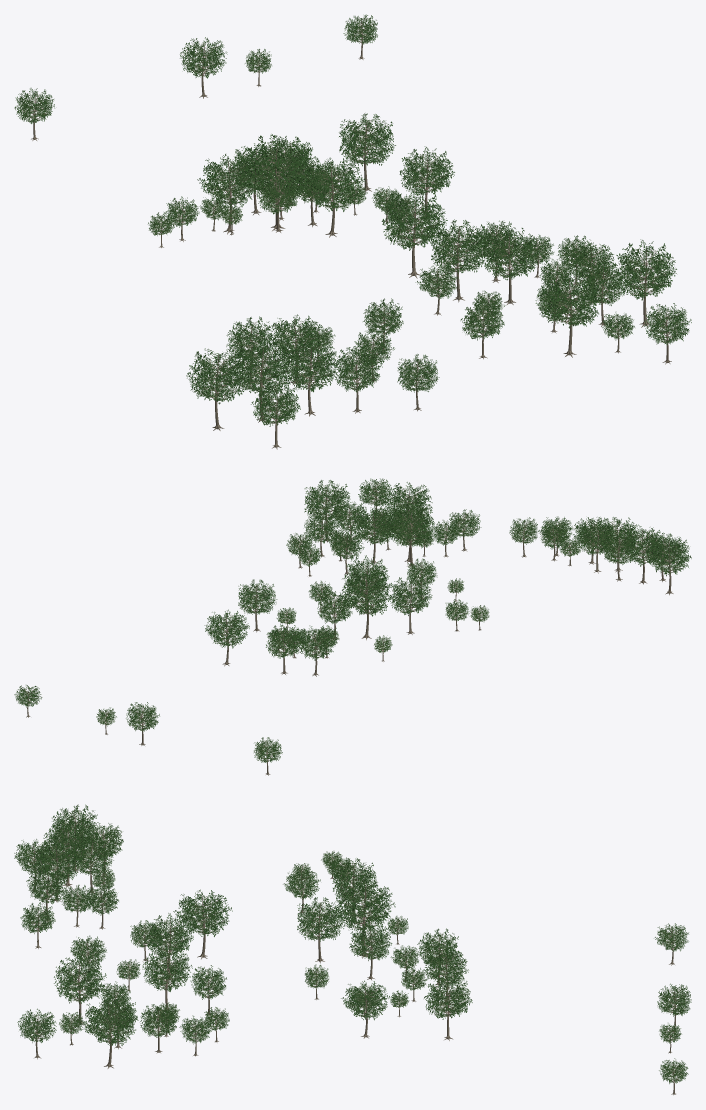
The model's file is expansion-trees-east.glb.
The picture shows the model from 3 angles, top to bottom: view 1: azimuth 30°, elevation 25°; view 2: azimuth 150°, elevation 25°; view 3: azimuth 270°, elevation 25°; orthographic projection. The views are drawn at different scales.
Parts seen in each view (by area): view 1: Expansion_GardenTree_035, Expansion_GardenTree_054, Expansion_GardenTree_050, Expansion_GardenTree_052, Expansion_GardenTree_069, Expansion_GardenTree_041, Expansion_GardenTree_048, Expansion_GardenTree_065, Expansion_GardenTree_045, Expansion_GardenTree_057, Expansion_GardenTree_083, Expansion_GardenTree_073 (+23 smaller); view 2: Expansion_GardenTree_035, Expansion_GardenTree_054, Expansion_GardenTree_052, Expansion_GardenTree_069, Expansion_GardenTree_083, Expansion_GardenTree_045, Expansion_GardenTree_057, Expansion_GardenTree_043, Expansion_GardenTree_065, Expansion_GardenTree_050, Expansion_GardenTree_036, Expansion_GardenTree_039 (+19 smaller); view 3: Expansion_GardenTree_035, Expansion_GardenTree_054, Expansion_GardenTree_052, Expansion_GardenTree_050, Expansion_GardenTree_041, Expansion_GardenTree_057, Expansion_GardenTree_045, Expansion_GardenTree_048, Expansion_GardenTree_073, Expansion_GardenTree_043, Expansion_GardenTree_083, Expansion_GardenTree_070 (+27 smaller).
Part boxes in pixels (x1,y1,x2,y2): Expansion_GardenTree_035: (243, 134, 313, 231); Expansion_GardenTree_054: (381, 189, 447, 278); Expansion_GardenTree_050: (537, 272, 599, 357); Expansion_GardenTree_052: (614, 239, 676, 327); Expansion_GardenTree_069: (186, 348, 250, 430); Expansion_GardenTree_041: (298, 157, 365, 237); Expansion_GardenTree_048: (431, 219, 489, 302); Expansion_GardenTree_065: (231, 342, 296, 422); Expansion_GardenTree_045: (339, 113, 395, 192); Expansion_GardenTree_057: (482, 227, 541, 305); Expansion_GardenTree_083: (197, 154, 261, 234); Expansion_GardenTree_073: (281, 339, 340, 416); Expansion_GardenTree_035: (338, 569, 393, 640); Expansion_GardenTree_054: (389, 504, 436, 566); Expansion_GardenTree_052: (304, 480, 351, 542); Expansion_GardenTree_069: (647, 534, 691, 595); Expansion_GardenTree_083: (389, 575, 432, 634); Expansion_GardenTree_045: (204, 609, 249, 666); Expansion_GardenTree_057: (351, 507, 392, 564); Expansion_GardenTree_043: (238, 579, 277, 632); Expansion_GardenTree_065: (622, 524, 664, 584); Expansion_GardenTree_050: (384, 482, 432, 541); Expansion_GardenTree_036: (296, 625, 335, 676); Expansion_GardenTree_039: (266, 624, 301, 674); Expansion_GardenTree_035: (335, 879, 395, 958); Expansion_GardenTree_054: (173, 889, 232, 959); Expansion_GardenTree_052: (79, 999, 138, 1068); Expansion_GardenTree_050: (54, 956, 106, 1025); Expansion_GardenTree_041: (297, 897, 345, 963); Expansion_GardenTree_057: (142, 948, 192, 1010); Expansion_GardenTree_045: (424, 975, 472, 1040); Expansion_GardenTree_048: (146, 913, 193, 978); Expansion_GardenTree_073: (30, 841, 80, 902); Expansion_GardenTree_043: (341, 980, 390, 1038); Expansion_GardenTree_083: (332, 858, 377, 923); Expansion_GardenTree_070: (71, 836, 113, 894).
Bounding box in the file's own units: 42.39 × 9.46 × 55.09.
3 materials, 3 textured.
